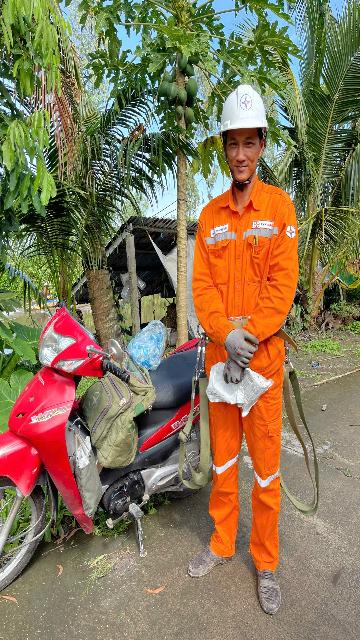gloves: (221, 327, 260, 362), (221, 352, 253, 376)
helmet: (217, 85, 278, 137)
shoes: (178, 535, 236, 579), (251, 565, 295, 618)
